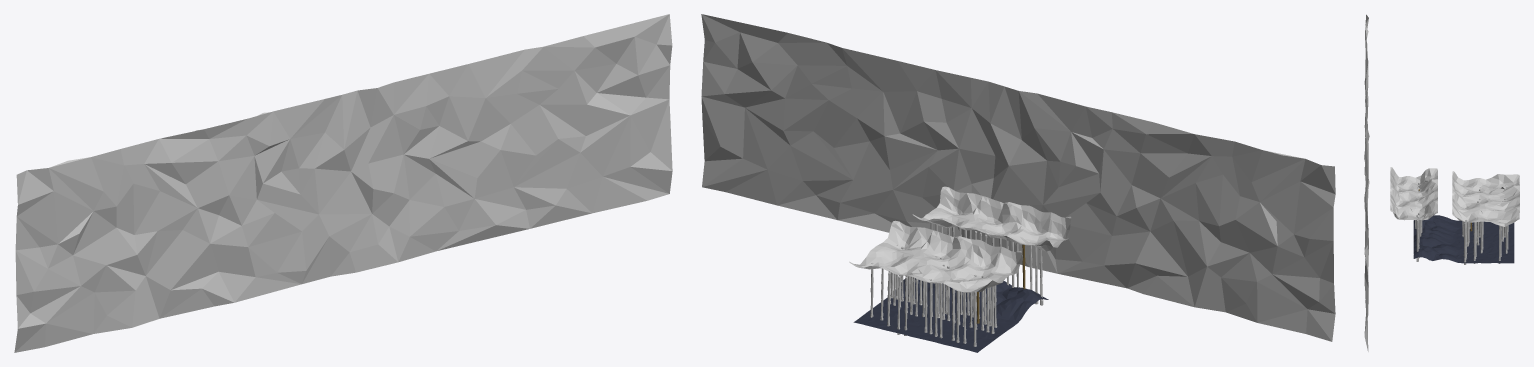
Rendered from frst2.obj.
3 renders of one model, left to right at view 1: azimuth 30°, elevation 25°; view 2: azimuth 150°, elevation 25°; view 3: azimuth 270°, elevation 25°, orthographic. The views are drawn at different scales.
Visible parts, largest first — view 1: Plane.001; view 2: Plane.001, Plane.003, Plane, Plane.002; view 3: Plane, Plane.003, Plane.002, Plane.001.
Part boxes in pixels (left/top/right/bottom): Plane.001: left=14, top=14, right=672, bottom=352; Plane.001: left=701, top=14, right=1335, bottom=341; Plane.003: left=849, top=220, right=1021, bottom=292; Plane: left=853, top=278, right=1048, bottom=352; Plane.002: left=912, top=186, right=1071, bottom=251; Plane: left=1413, top=215, right=1514, bottom=263; Plane.003: left=1452, top=171, right=1519, bottom=226; Plane.002: left=1390, top=167, right=1437, bottom=220; Plane.001: left=1364, top=14, right=1369, bottom=351.
Size of the model in its own units: 24.19 by 6.47 by 7.34.
